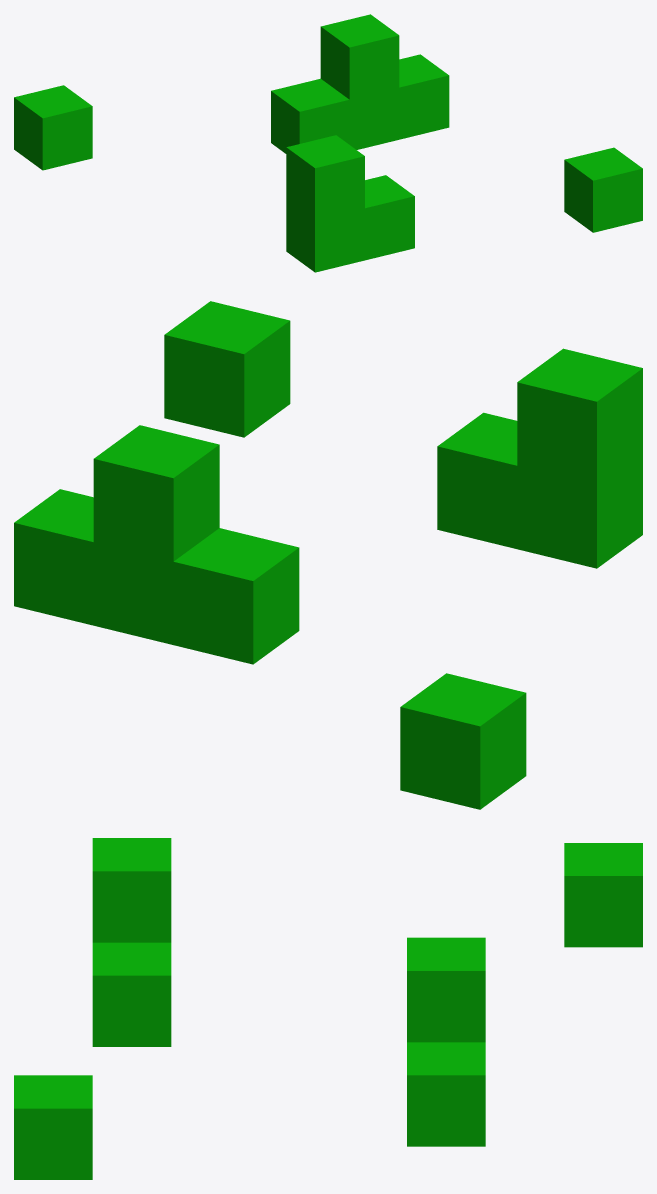
Rendered from grass_frth.obj.
The picture shows the model from 3 angles, top to bottom: view 1: azimuth 30°, elevation 25°; view 2: azimuth 150°, elevation 25°; view 3: azimuth 270°, elevation 25°; orthographic projection. The views are drawn at different scales.
Parts seen in each view (by area): view 1: grass_frth; view 2: grass_frth; view 3: grass_frth.
Boxes of the visible parts, <box> form: grass_frth: <box>14,14,642,272</box>; grass_frth: <box>14,301,642,809</box>; grass_frth: <box>14,838,642,1179</box>.
Size of the model in its own units: 8 by 2 by 8.
1 material, 1 textured.
